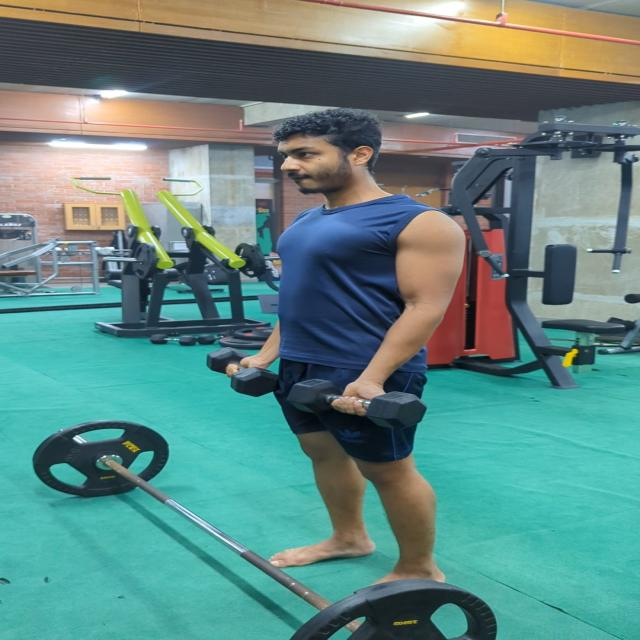Normal_DumbbellBicepCurls: (204, 108, 472, 590)
